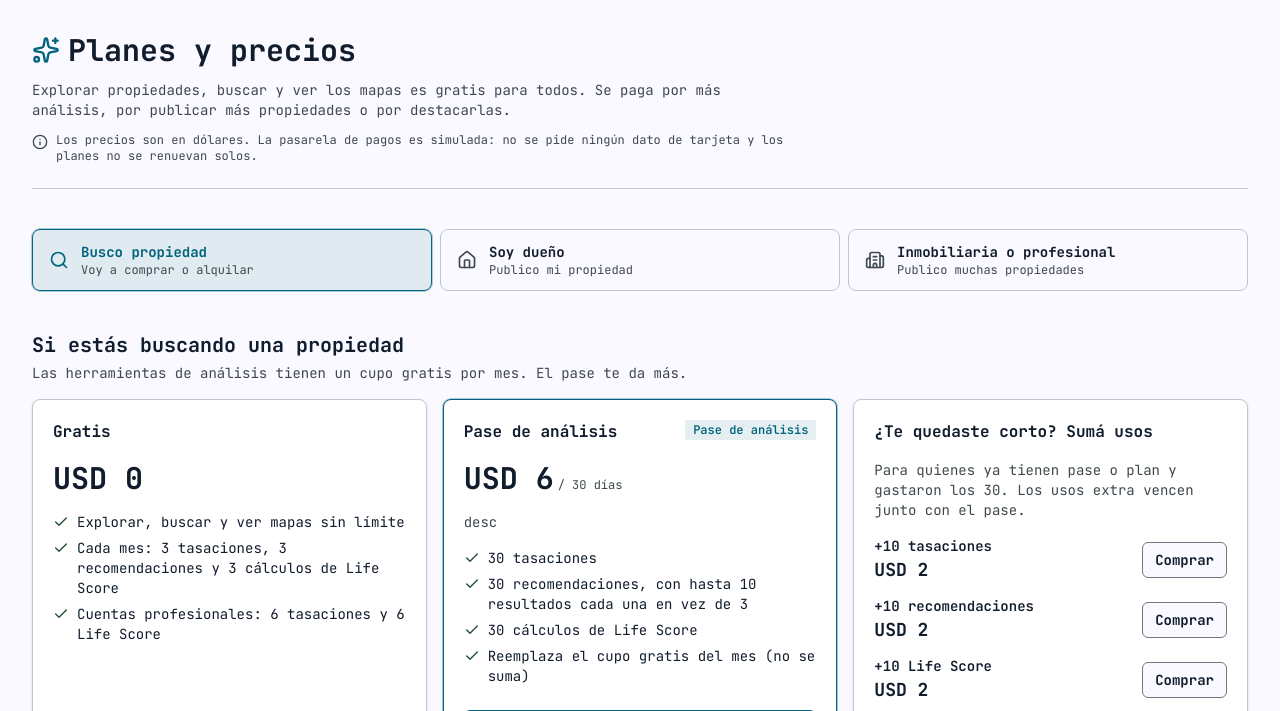
Test: Planes con pestañas › cambia de pestaña al hacer click
Click the tab "Soy dueño Publico mi propiedad" at coordinates (527, 252), box [440,229,840,291]
(page scrolled)
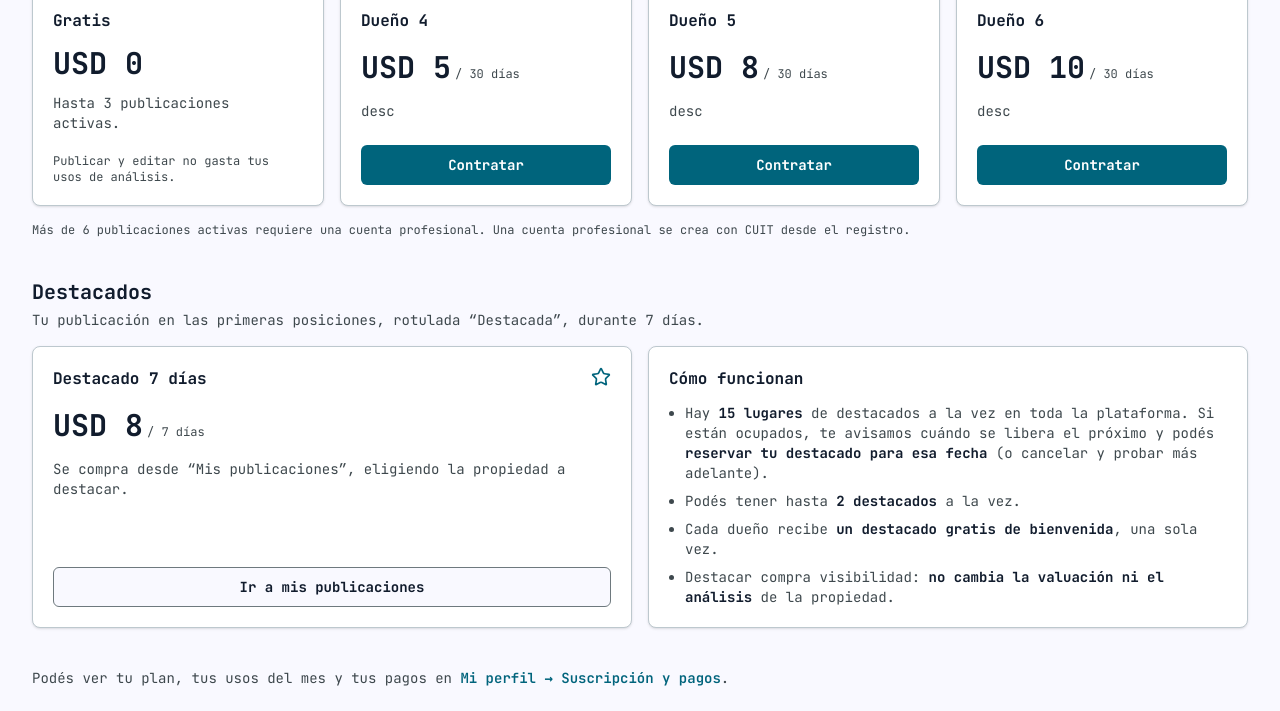
Check: the heading "Pase de análisis" is gone
Check: the heading "Destacado 7 días" is shown, box [53,367,207,391]
